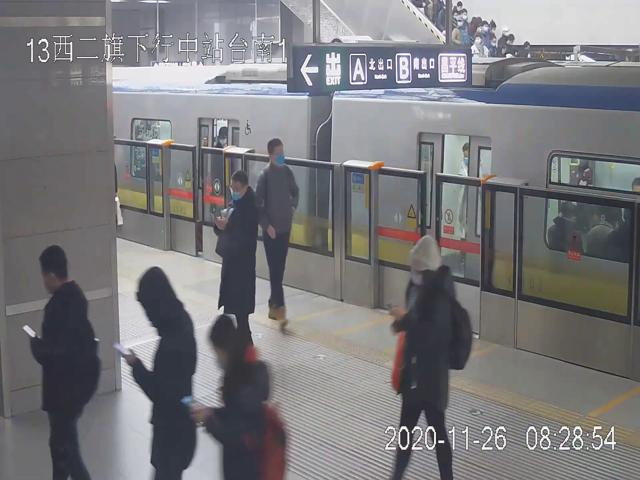person: (29, 245, 102, 480), (392, 232, 456, 480), (130, 264, 197, 480), (200, 316, 270, 480), (213, 171, 261, 346), (256, 137, 299, 331)
